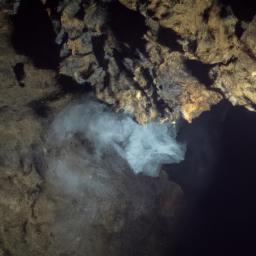smoke: (48, 79, 193, 208)
